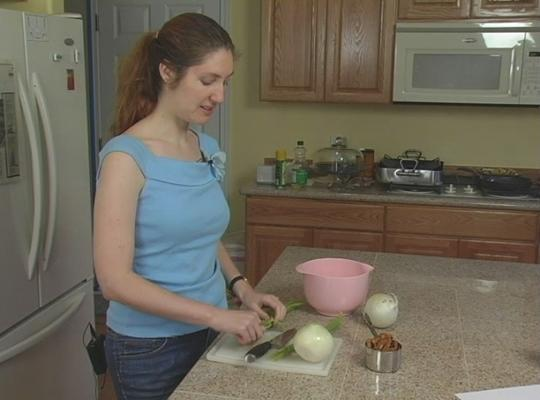person: (92, 12, 288, 400)
